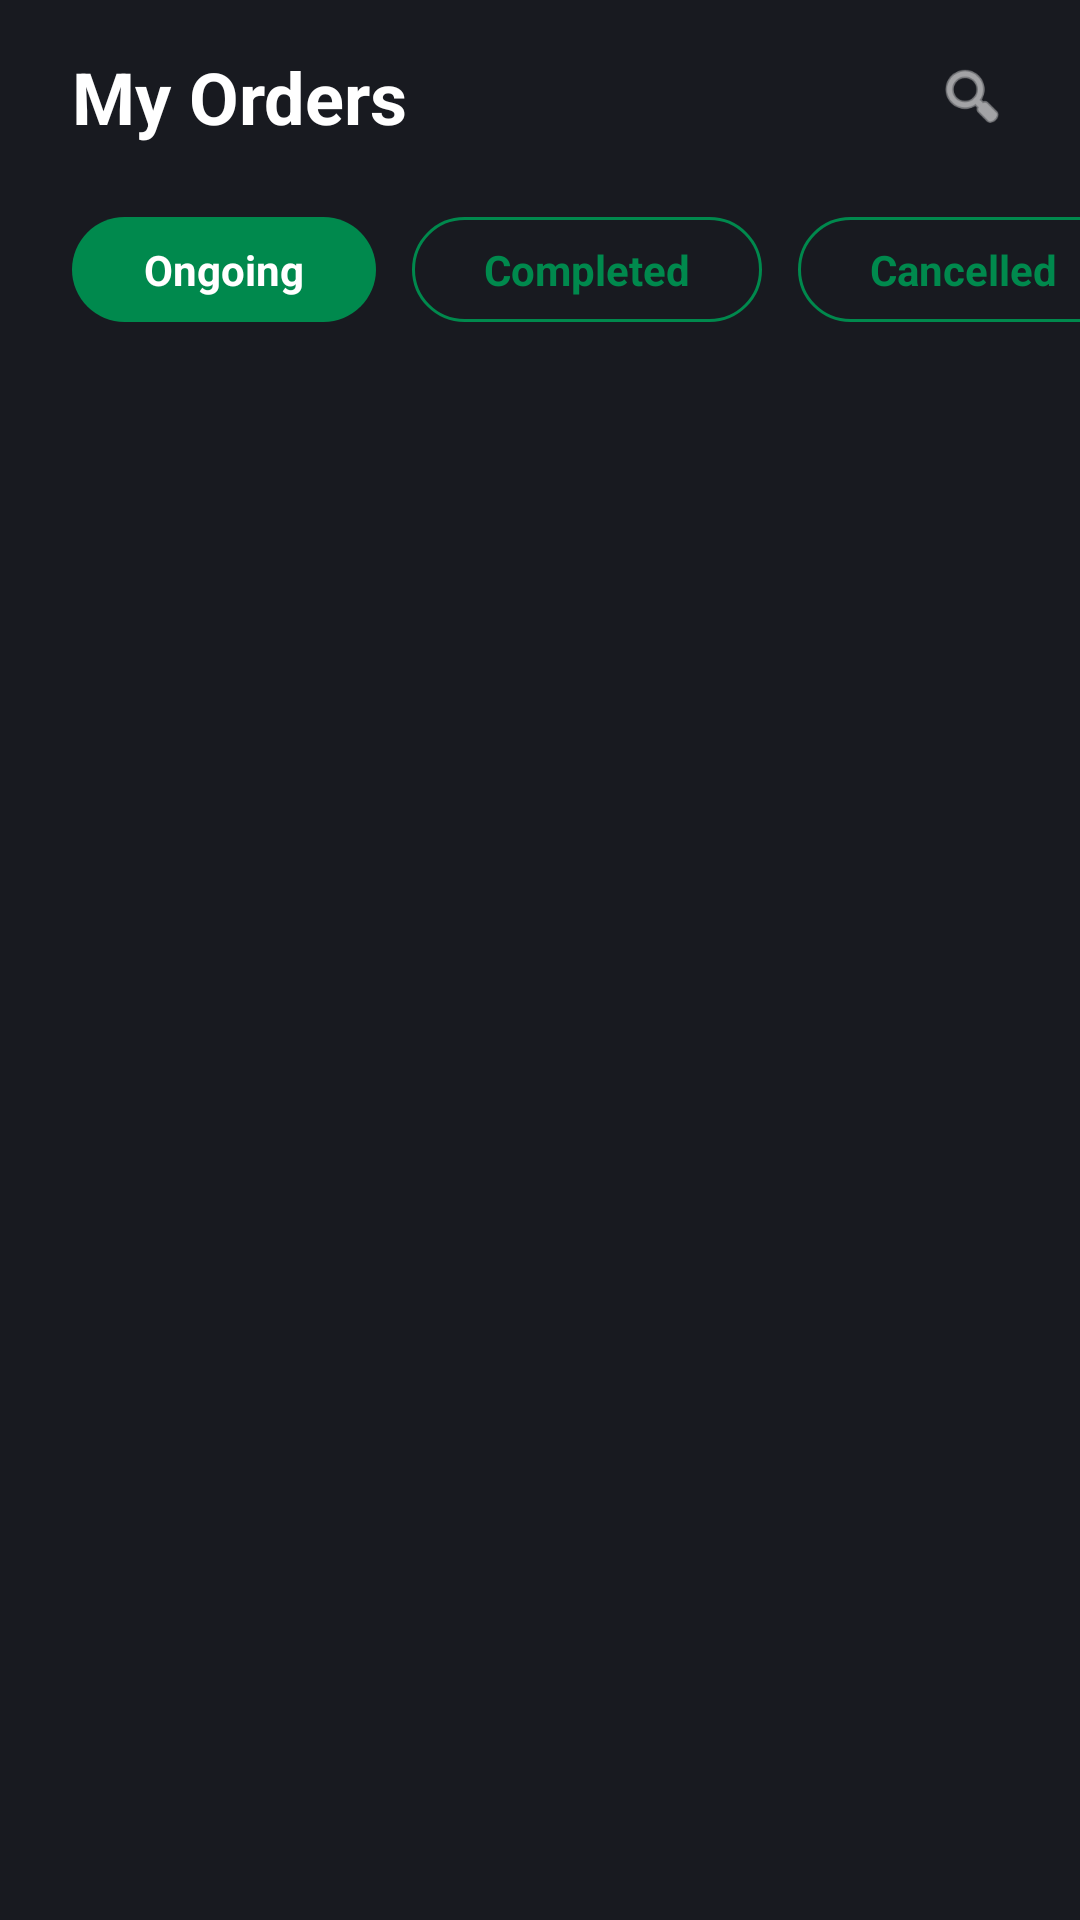

Where icons sit on this 1080 x 1920 app screen, as (x1, y1, x2, y2):
search: (945, 70, 999, 123)
